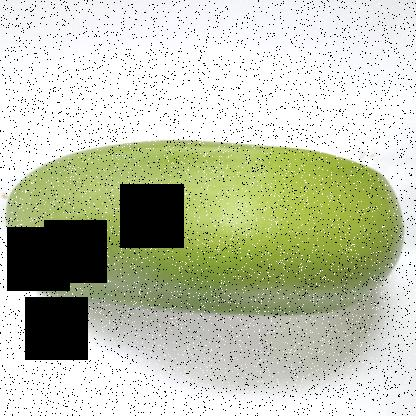freshunripe: (0, 118, 415, 325)
